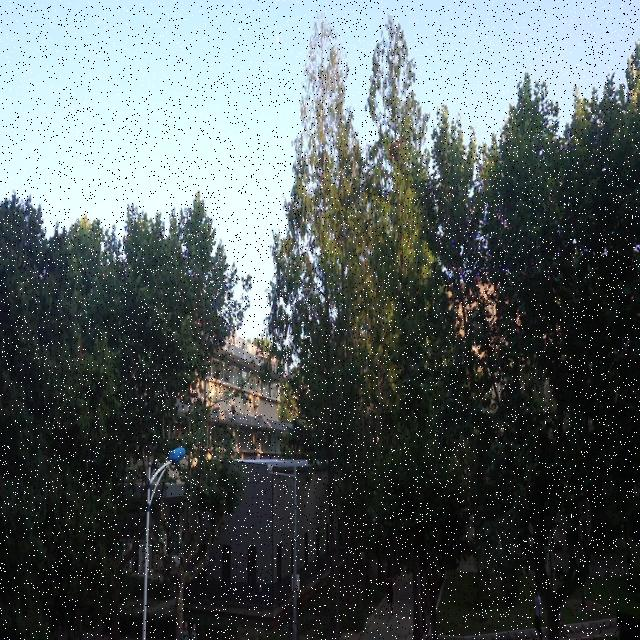UAV: (301, 287, 313, 296)
